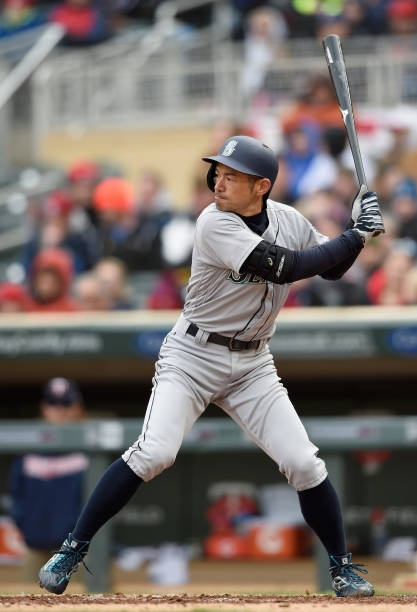bita: (321, 29, 377, 224)
